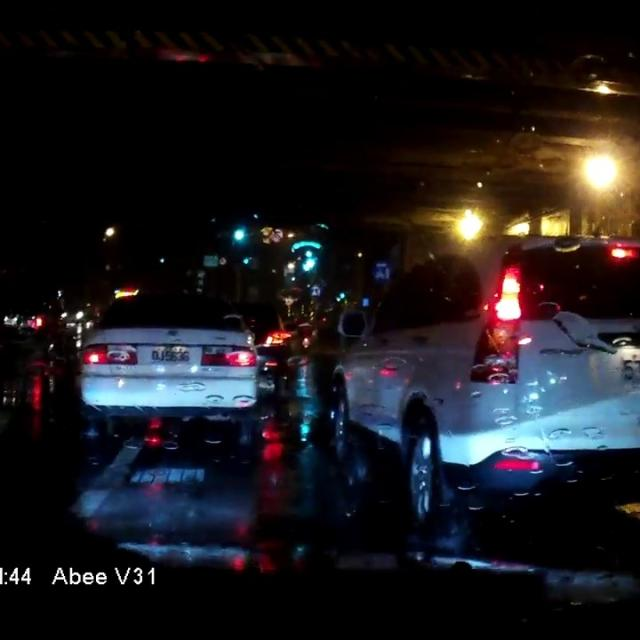Car: (323, 234, 639, 521), (71, 298, 269, 425)
